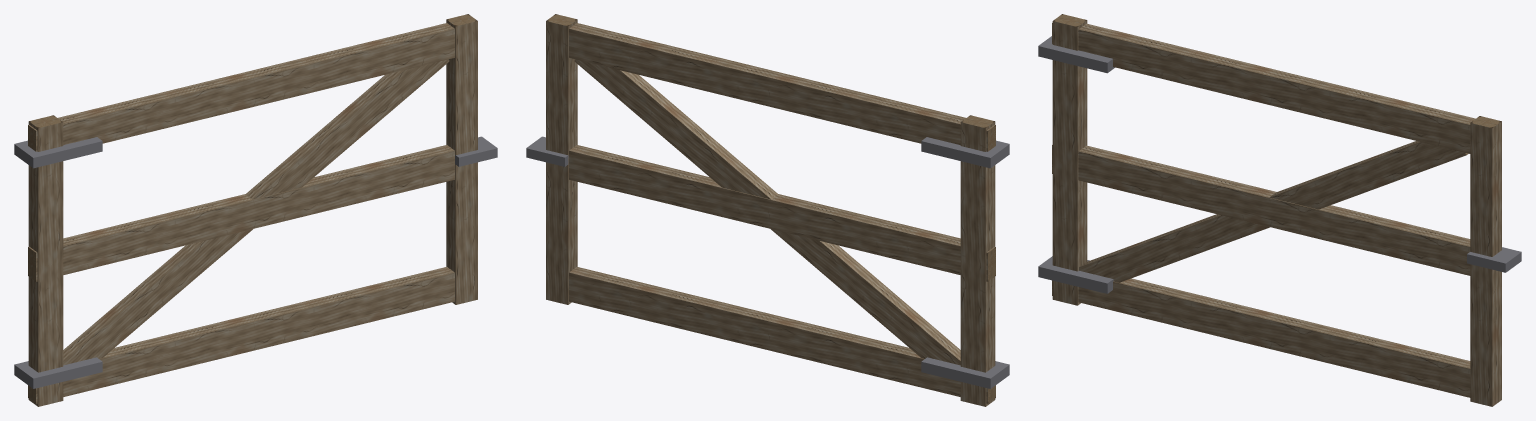
Rendered from fence_split_rail_gate_leaf.fbx.
3 views of the same model, side by side, from view 1: azimuth 30°, elevation 25°; view 2: azimuth 150°, elevation 25°; view 3: azimuth 330°, elevation 25° (orthographic).
Visible parts, largest first — view 1: FenceSplitRailGateLeafMesh.001; view 2: FenceSplitRailGateLeafMesh.001; view 3: FenceSplitRailGateLeafMesh.001.
Part boxes in pixels (box(x1,y1,x2,y2)): FenceSplitRailGateLeafMesh.001: box(14, 14, 497, 406); FenceSplitRailGateLeafMesh.001: box(526, 14, 1009, 406); FenceSplitRailGateLeafMesh.001: box(1038, 14, 1521, 406).
Size of the model in its own units: 4.27 by 0.3048 by 2.44.
